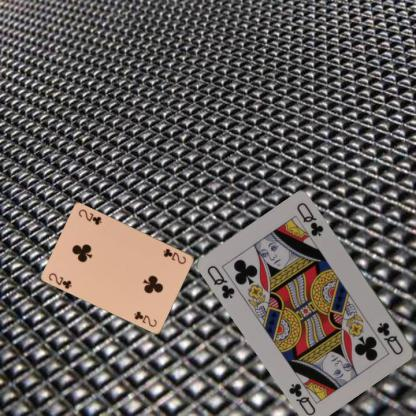2c: (46, 270, 74, 290), (161, 246, 187, 265)
Qc: (204, 262, 237, 300), (374, 320, 405, 356)
